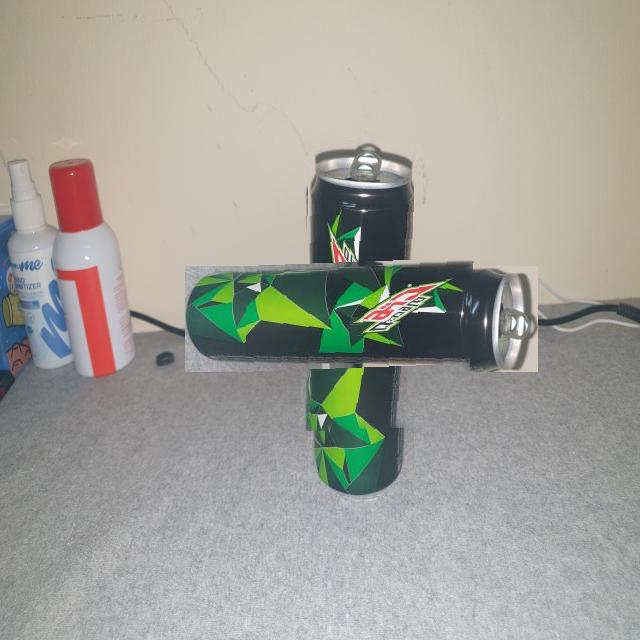recyclable: (246, 204, 476, 434)
